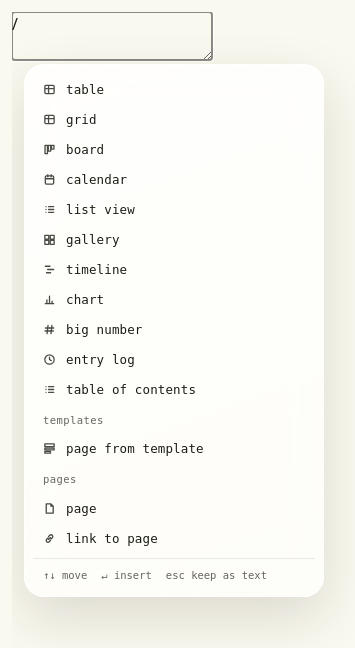
templates › → also opens it; ↵ then picks a premade kind; ← steps back to the blocks
The image size is (355, 648).
(page scrolled)
Hover over the option "page from template": (123, 449) [43,441,204,456]
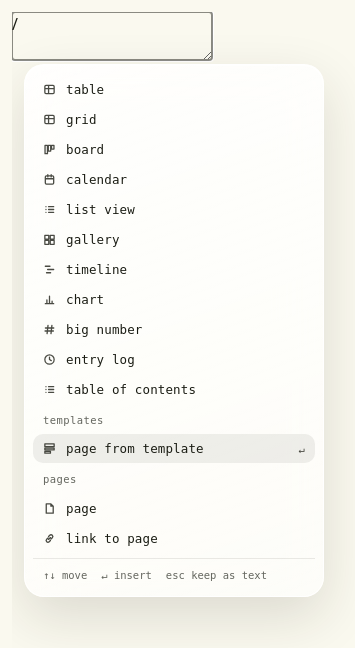
Press ArrowRight in the text box, box [12,12,212,60]
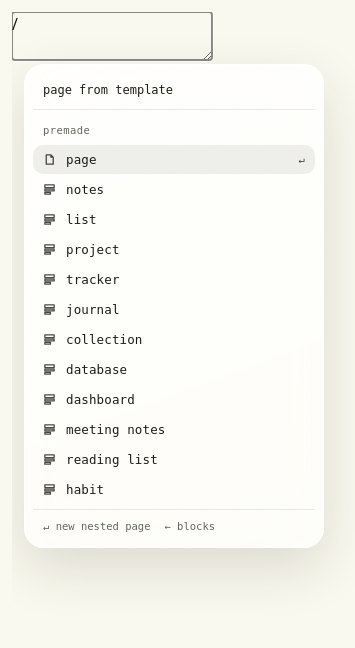
Expected: the text "page" is shown, [66,152,97,167]
Press ArrowDown in the text box, box [12,12,212,60]
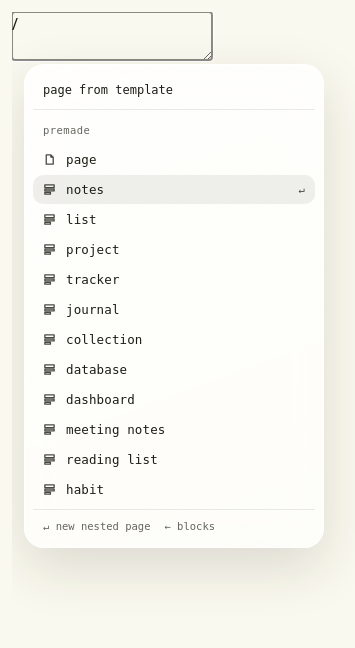
Press ArrowDown in the text box, box [12,12,212,60]
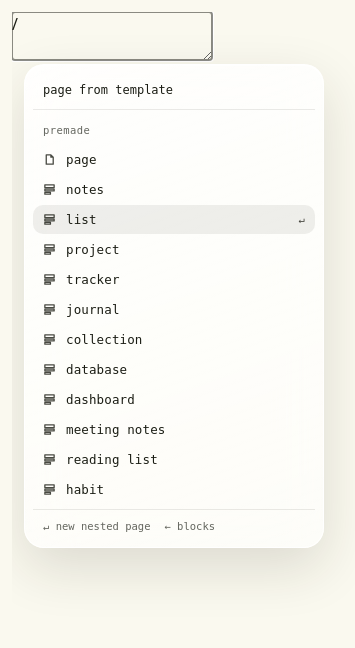
Press ArrowDown in the text box, box [12,12,212,60]
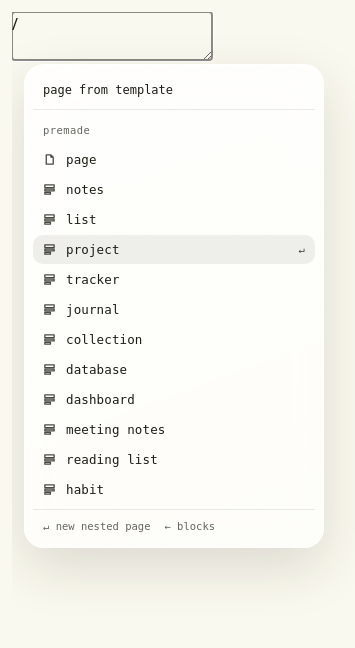
Press Enter in the text box, box [12,12,212,60]
Press ArrowLeft in the text box, box [12,12,212,60]
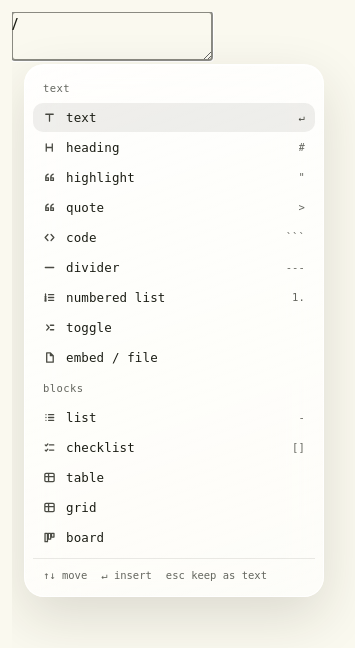
Expected: the 1st text "text" is shown, [43,82,70,94]
